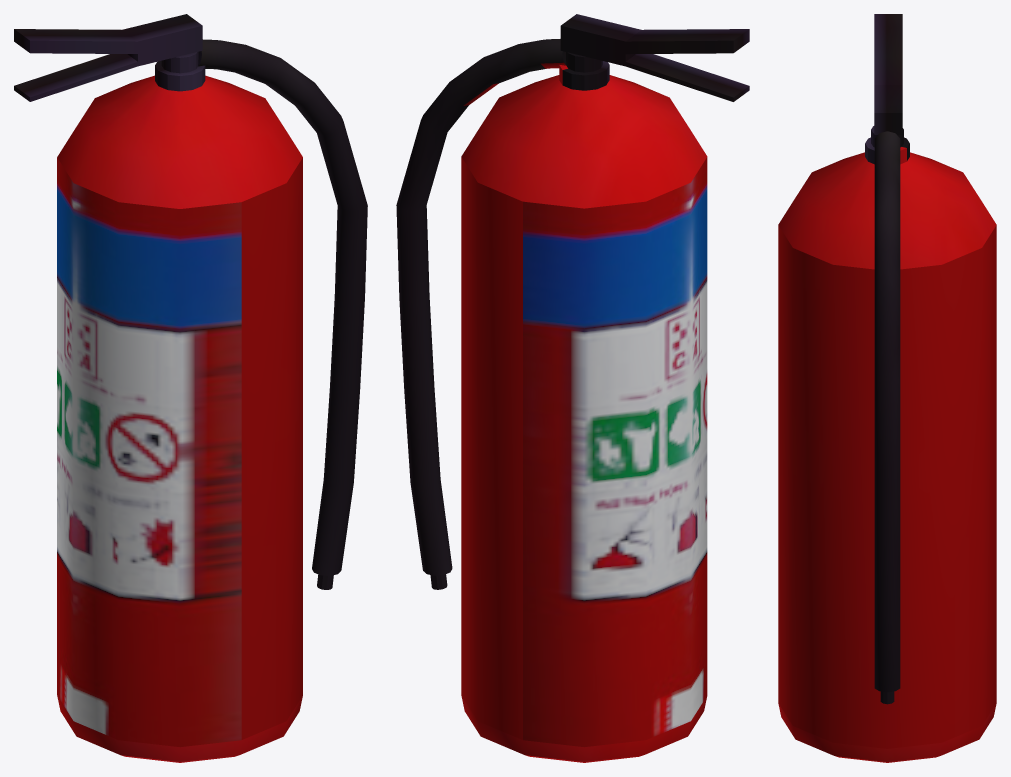
File: FireExtinguisher.FBX
The picture shows the model from 3 angles, left to right: view 1: azimuth 30°, elevation 25°; view 2: azimuth 150°, elevation 25°; view 3: azimuth 270°, elevation 25°; orthographic projection. The views are drawn at different scales.
Visible parts, largest first — view 1: Fire Extinguisher; view 2: Fire Extinguisher; view 3: Fire Extinguisher.
Part boxes in pixels (box(x1,y1,x2,y2)): Fire Extinguisher: box(14, 14, 367, 762); Fire Extinguisher: box(396, 14, 749, 762); Fire Extinguisher: box(778, 14, 996, 762).
Size of the model in its own units: 11.26 by 22.57 by 6.99.
